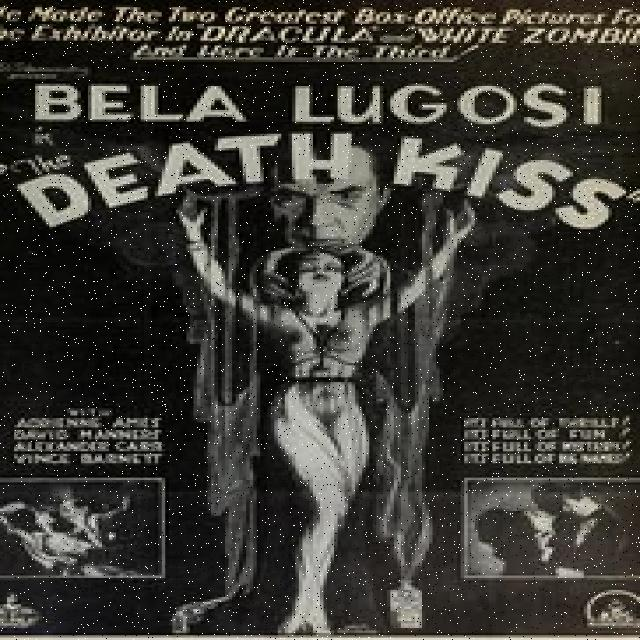movie-judul: (15, 130, 640, 247)
picture: (175, 148, 464, 633), (465, 478, 640, 578), (2, 475, 165, 579)
